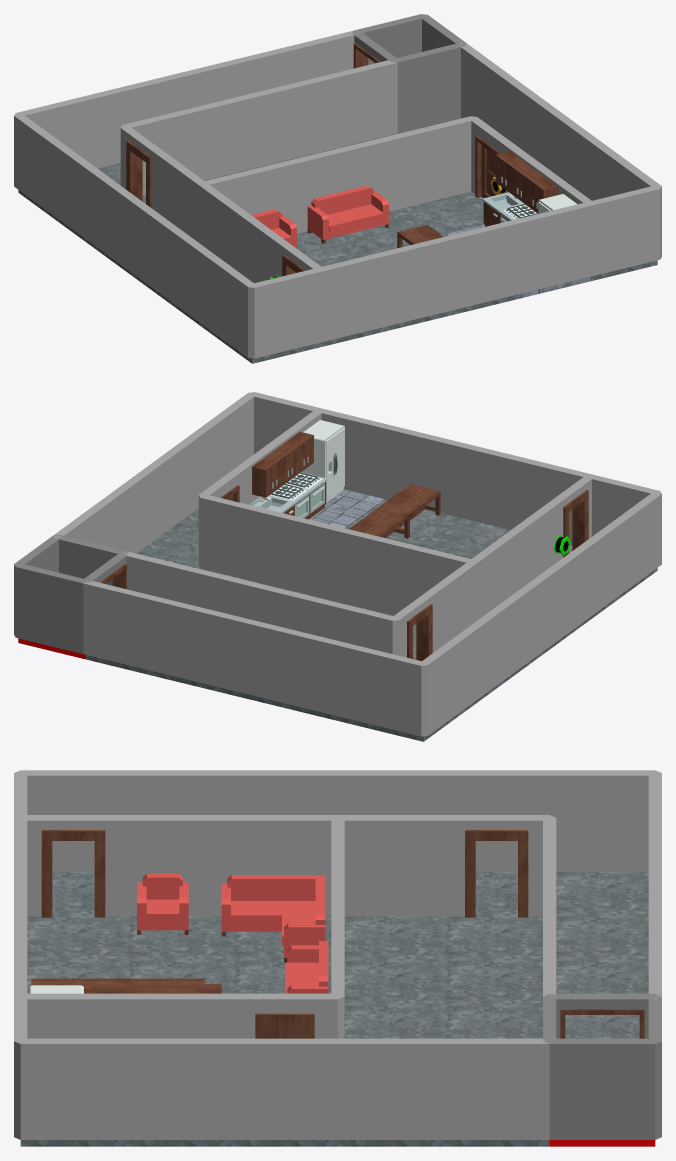
File: Level_1_0_Unlocked.fbx
3 views of the same model, one above another, from view 1: azimuth 30°, elevation 25°; view 2: azimuth 150°, elevation 25°; view 3: azimuth 270°, elevation 25° (orthographic). The views are drawn at different scales.
Parts seen in each view (by area): view 1: mergedBlocks; view 2: mergedBlocks; view 3: mergedBlocks.
Boxes of the visible parts, x1,y1,x2,y2 form: mergedBlocks: (14, 14, 661, 363); mergedBlocks: (14, 392, 661, 741); mergedBlocks: (14, 770, 661, 1146).
Bounding box in the file's own units: 61.25 × 11 × 61.25.
19 materials, 5 textured.
